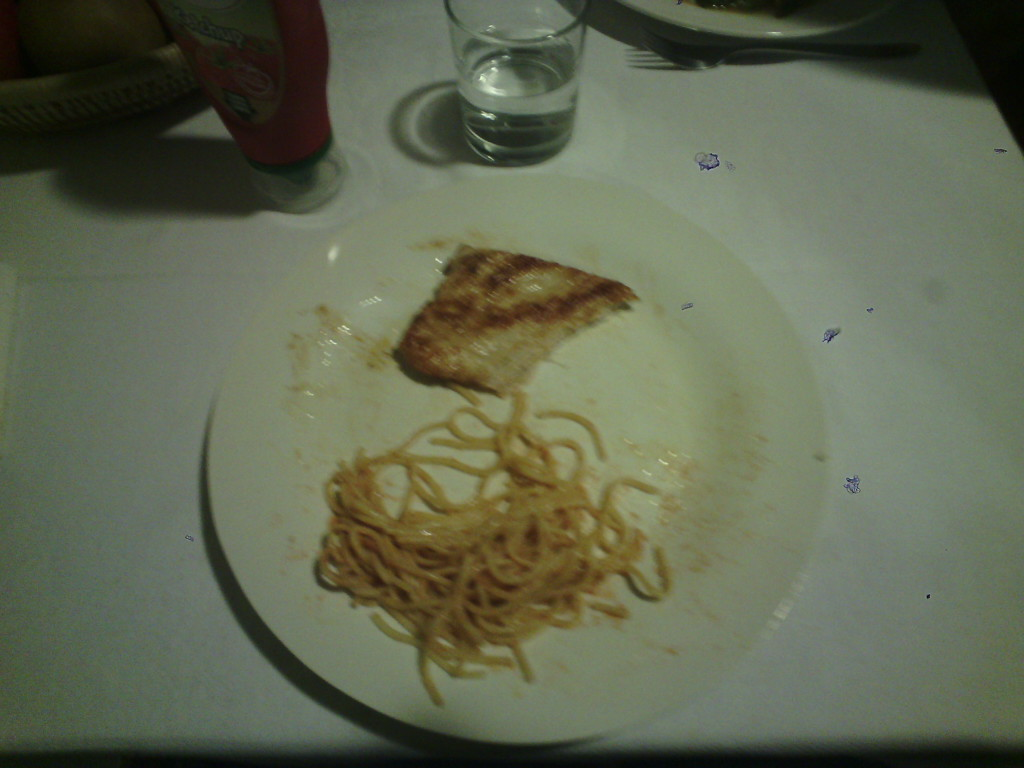21-40: (215, 176, 825, 742)
